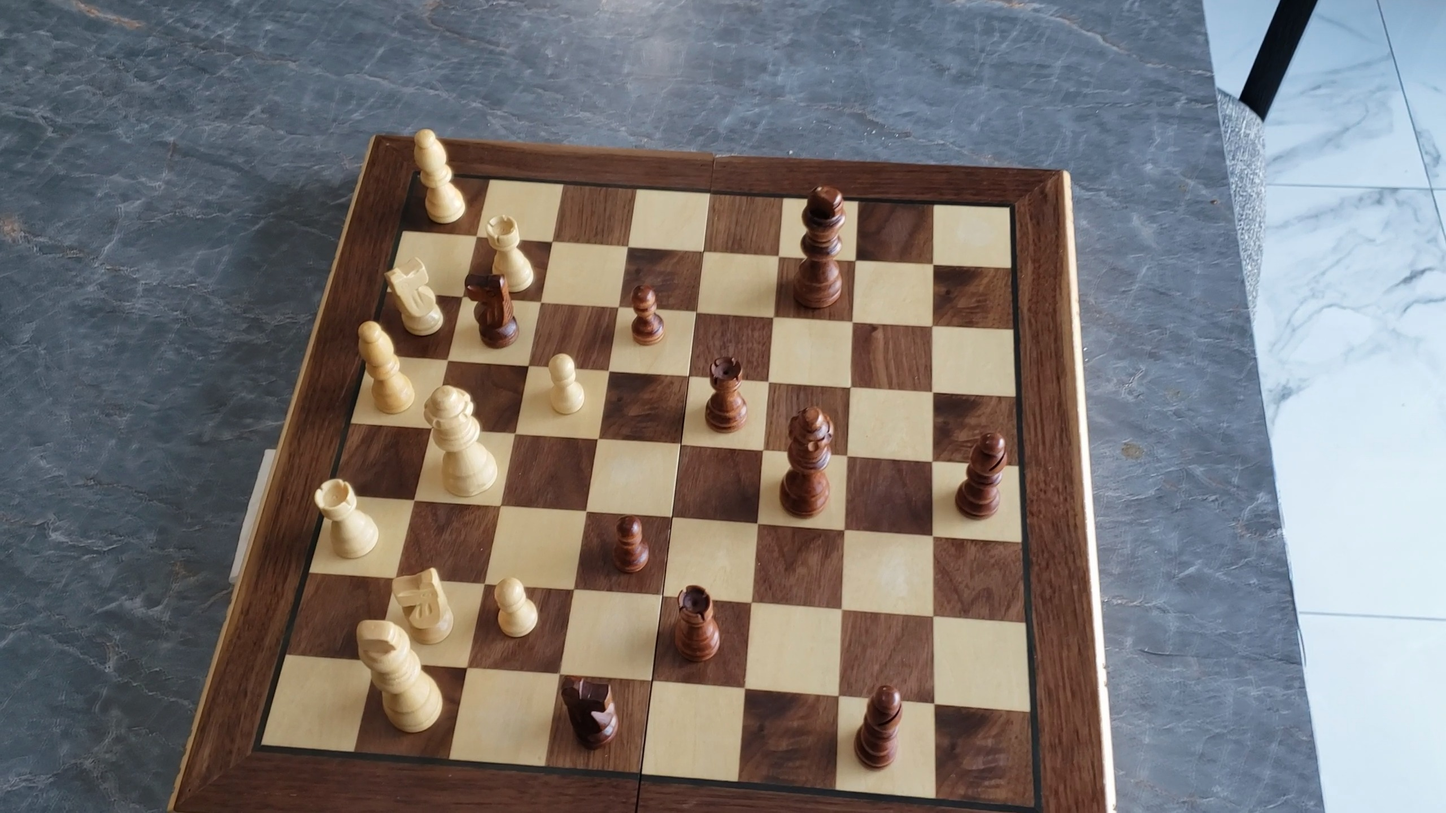black-bishop: (954, 429, 1011, 521), (852, 681, 908, 772)
black-king: (789, 175, 850, 313)
black-knight: (557, 672, 622, 751), (465, 270, 521, 350)
black-pawn: (610, 511, 652, 576), (628, 280, 668, 348)
black-queen: (778, 403, 837, 519)
black-rook: (670, 583, 723, 665), (703, 352, 750, 434)
white-bishop: (353, 318, 419, 417), (408, 123, 469, 228)
white-king: (352, 618, 446, 747)
white-knight: (385, 563, 460, 647), (382, 252, 448, 338)
white-pawn: (490, 572, 543, 641), (542, 349, 590, 419)
white-queen: (420, 375, 502, 501)
white-rook: (311, 475, 384, 562), (482, 212, 539, 295)
